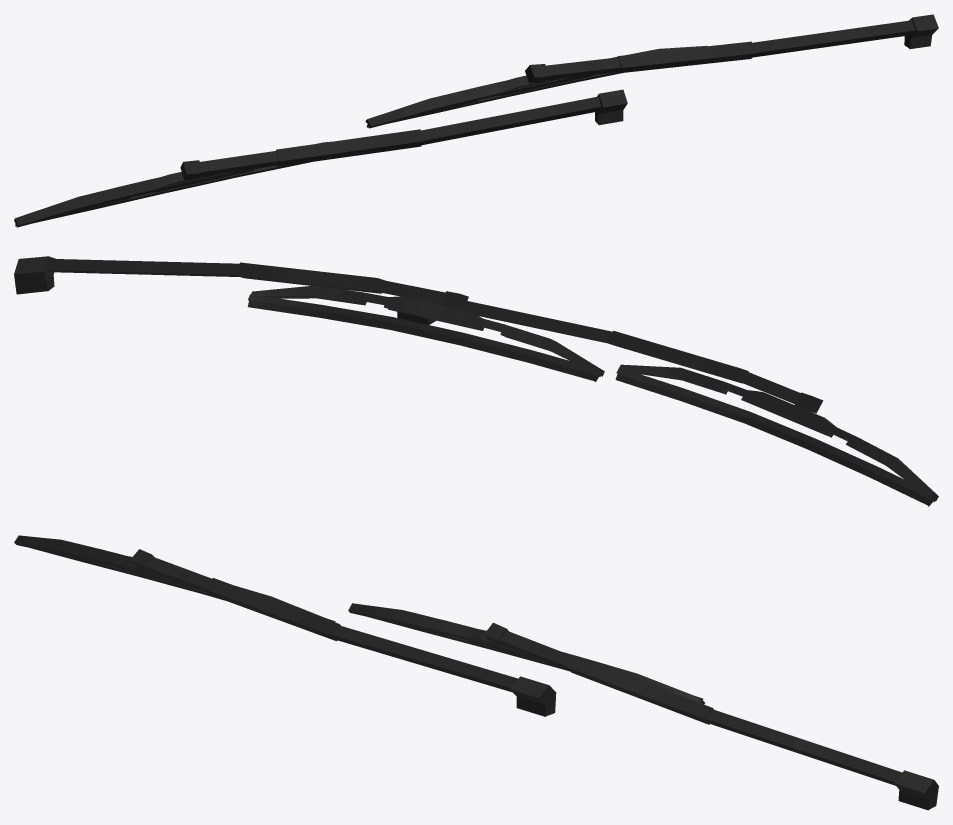
Rendered from rcfWipers.obj.
The picture shows the model from 3 angles, top to bottom: view 1: azimuth 30°, elevation 25°; view 2: azimuth 150°, elevation 25°; view 3: azimuth 330°, elevation 25°; orthographic projection. The views are drawn at different scales.
Visible parts, largest first — view 1: rcfWipers; view 2: rcfWipers; view 3: rcfWipers.
Boxes of the visible parts, bbox=[...] form: rcfWipers: bbox=[14, 14, 938, 227]; rcfWipers: bbox=[14, 256, 938, 506]; rcfWipers: bbox=[14, 535, 938, 810].
Size of the model in its own units: 110 by 10.35 by 12.47.
Materials: 1 (1 with a texture image).
